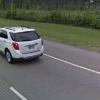Car: (3, 19, 48, 69)
